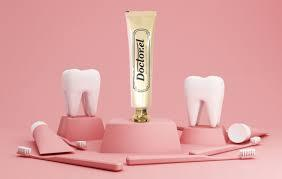toothpaste: (123, 6, 156, 124)
